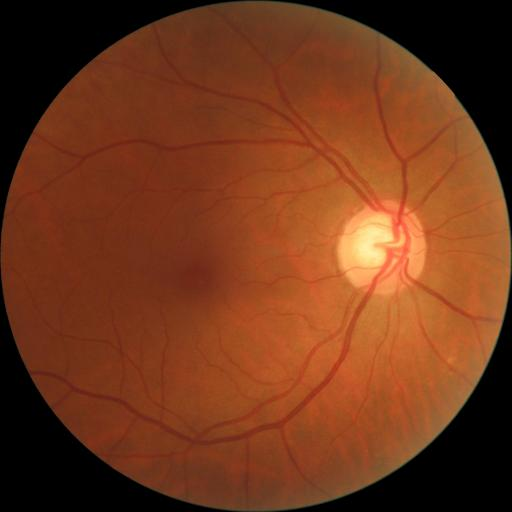Optic Cup: (354, 216, 407, 270)
Optic Disc: (337, 200, 427, 294)
